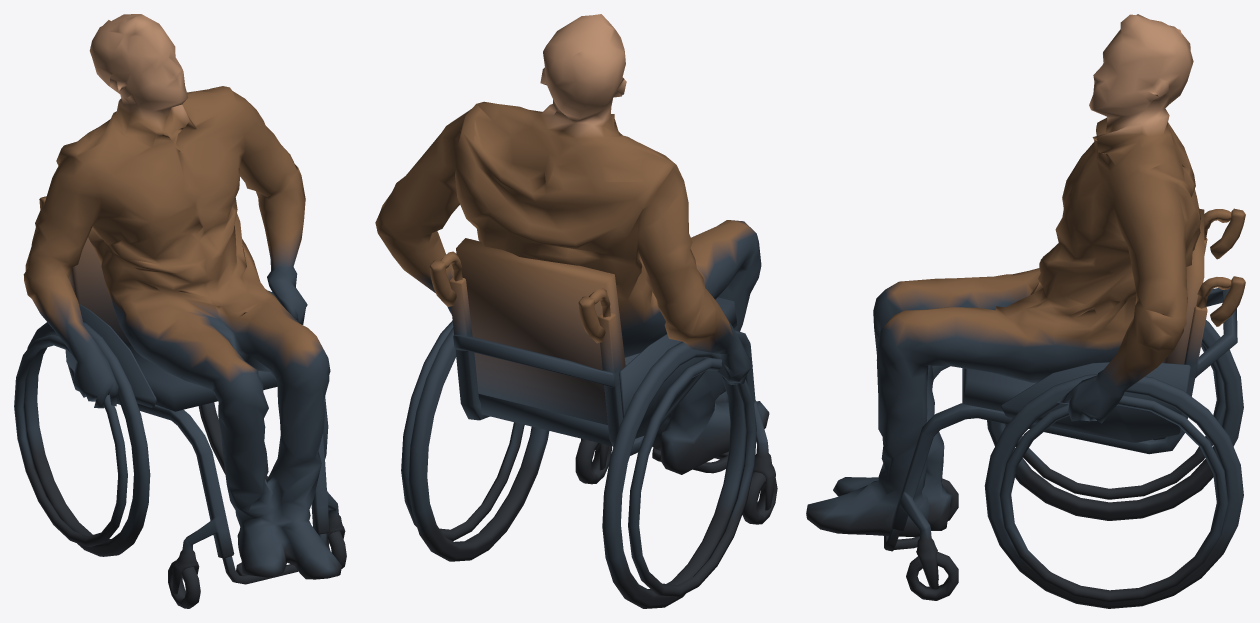
The model's file is people_typ1_sit.glb.
3 renders of one model, left to right at view 1: azimuth 30°, elevation 25°; view 2: azimuth 150°, elevation 25°; view 3: azimuth 270°, elevation 25°, orthographic. The views are drawn at different scales.
Parts seen in each view (by area): view 1: people_typ1_sit-mesh; view 2: people_typ1_sit-mesh; view 3: people_typ1_sit-mesh.
Boxes of the visible parts, box(x1,y1,x2,y2) form: people_typ1_sit-mesh: box(14, 14, 346, 608); people_typ1_sit-mesh: box(375, 14, 777, 608); people_typ1_sit-mesh: box(806, 14, 1245, 608).
Size of the model in its own units: 0.8467 by 1.45 by 1.08.
